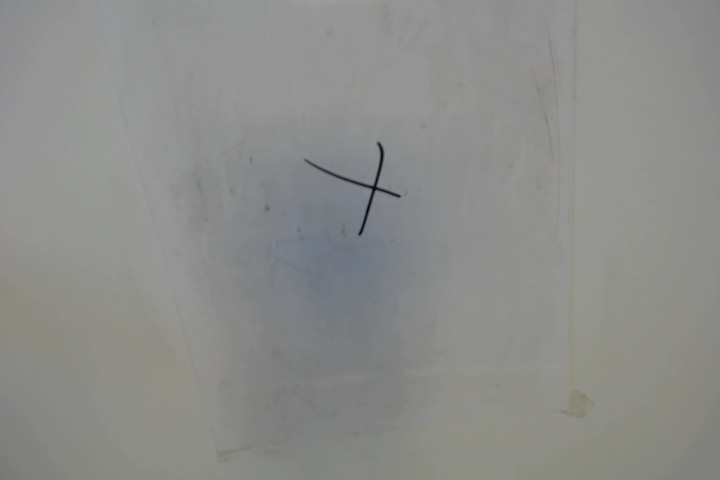x: (298, 139, 405, 241)
